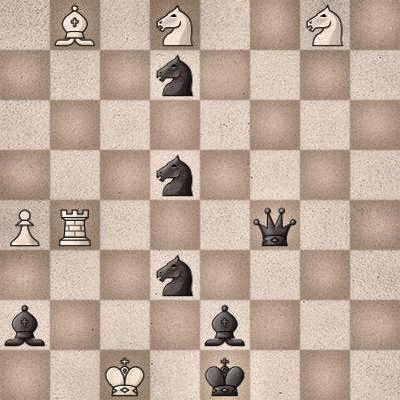black-bishop: (0, 300, 50, 350), (200, 300, 250, 350)
black-king: (200, 350, 250, 400)
black-knight: (150, 50, 200, 100), (150, 150, 200, 200), (150, 250, 200, 300)
black-queen: (250, 200, 300, 250)
white-bishop: (50, 0, 100, 50)
white-king: (100, 350, 150, 400)
white-knight: (150, 0, 200, 50), (300, 0, 350, 50)
white-pawn: (0, 200, 50, 250)
white-rook: (50, 200, 100, 250)
